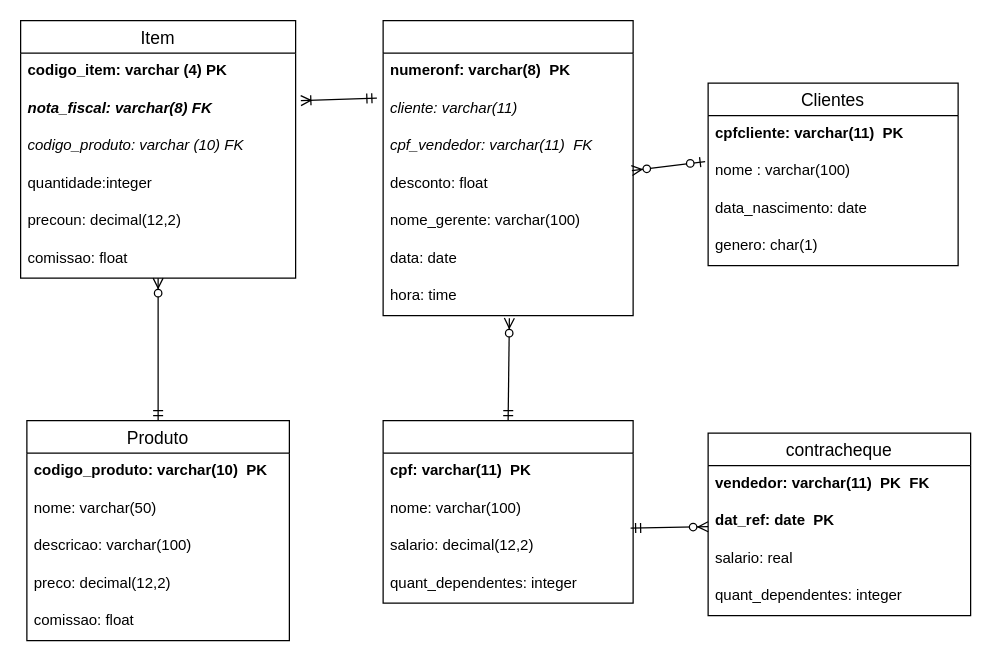
Image size: 991x661. Some labels were removed from this diagram. Here are the shapes that lost their labels. From the top down, the box of each, then its label:
(382, 19, 633, 316): NotaFiscal
(382, 419, 633, 603): Vendedores
